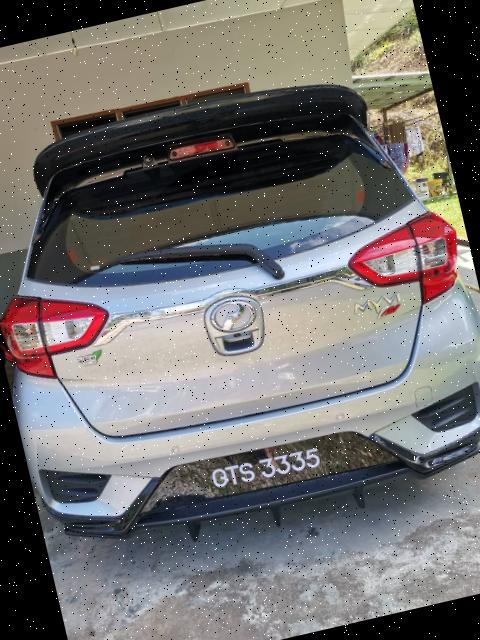License_Plate: (194, 432, 341, 503)
car: (1, 41, 480, 573)
